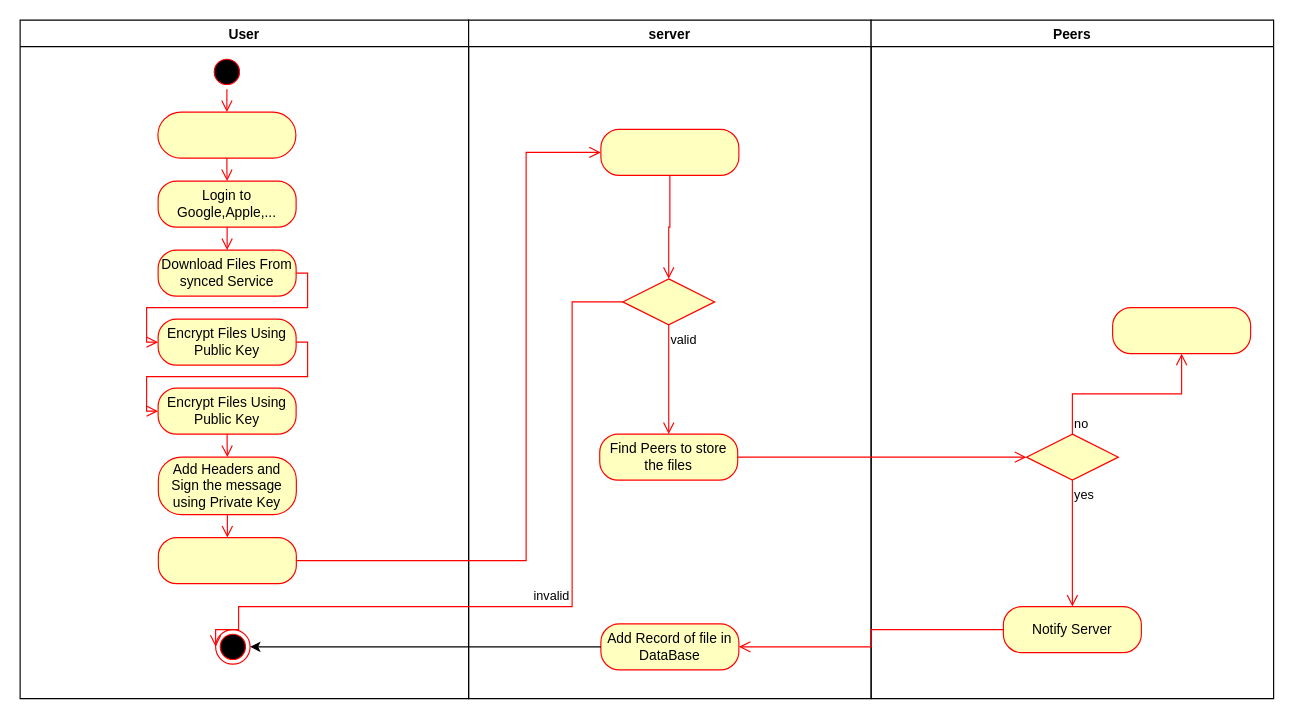
Image size: 1294x719. Some labels were removed from this diagram. Here are the shapes that lost their labels. From the top down, the centre of each, then its label:
At (x=226, y=134): "Click on Sync With Google,...".
At (x=669, y=151): "Validate the Signature".
At (x=1181, y=330): "Ignore the Message".
At (x=1071, y=456): "Store?".
At (x=226, y=560): "Send".
